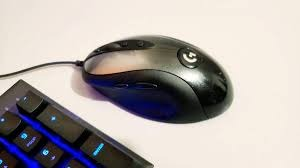mouse: (73, 32, 240, 119)
